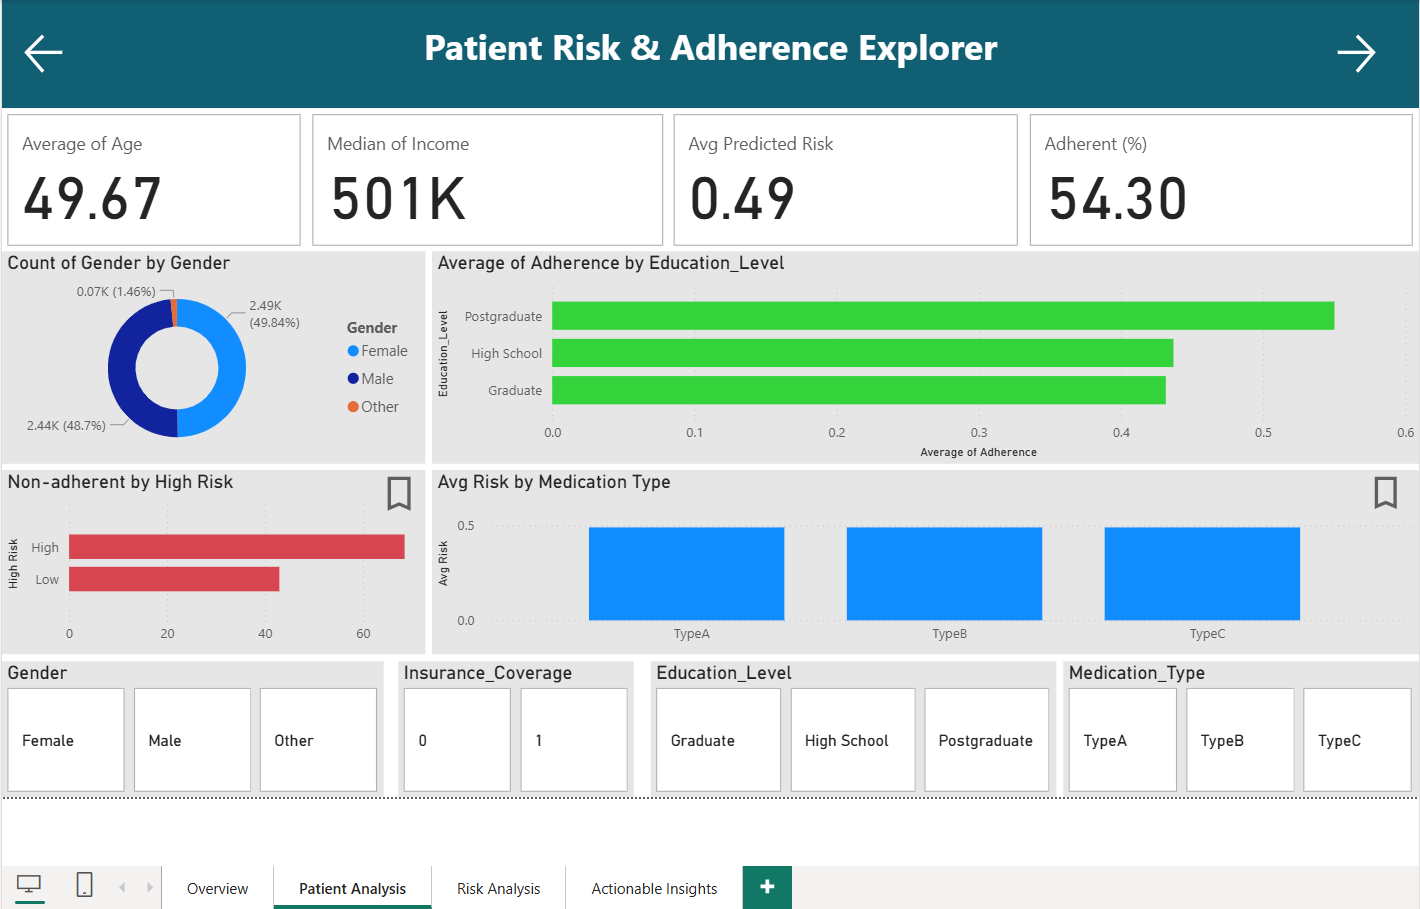

Layout of this report page (visuals, bound fields, positions):
{"tool":"powerbi","page":{"name":"Patient Analysis","canvas":[1280,720],"ordinal":1},"visuals":[{"type":"cardVisual","fields":{"Data":["Avg(patient_adherence.Age)"]},"box":[0,97.9,275.3,129.3],"z":0},{"type":"cardVisual","fields":{"Data":["Median(patient_adherence.Income)"]},"box":[275.3,97.9,327,129.3],"z":1000},{"type":"cardVisual","fields":{"Data":["adherence_predictions.Adherent (%)"]},"box":[923.8,97.9,356.6,129.3],"z":2000},{"type":"cardVisual","fields":{"Data":["adherence_predictions.Avg Predicted Risk"]},"box":[602.3,97.9,321.5,129.3],"z":3000},{"type":"donutChart","fields":{"Category":["patient_adherence.Gender"],"Y":["CountNonNull(patient_adherence.Gender)"]},"box":[0,227.3,382.4,192.1],"z":4000},{"type":"barChart","fields":{"Category":["patient_adherence.Education_Level"],"Y":["Avg(patient_adherence.Adherence)"]},"box":[388,227.3,892.4,192.1],"z":5000},{"type":"clusteredColumnChart","fields":{"Category":["patient_adherence.Medication_Type"],"Y":["adherence_predictions.Avg Risk by Med"]},"box":[388,424.9,892.4,166],"z":6000},{"type":"barChart","fields":{"Category":["adherence_predictions.Is_High_Risk"],"Y":["adherence_predictions.Non-adherent"]},"box":[0,424.9,382.4,166.3],"z":7000},{"type":"advancedSlicerVisual","fields":{"Values":["patient_adherence.Gender"]},"box":[0,596.8,345,123.8],"z":8000},{"type":"advancedSlicerVisual","fields":{"Values":["patient_adherence.Education_Level"]},"box":[585.7,596.8,366,123.8],"z":9000},{"type":"advancedSlicerVisual","fields":{"Values":["patient_adherence.Medication_Type"]},"box":[958.9,596.8,321.5,123.8],"z":10000},{"type":"textbox","box":[0,0,1280.4,97.9],"z":11000},{"type":"advancedSlicerVisual","fields":{"Values":["patient_adherence.Insurance_Coverage"]},"box":[358.4,596.8,212.5,123.8],"z":12000},{"type":"actionButton","box":[339,425.7,43.4,40.2],"z":12001},{"type":"actionButton","box":[1230.5,425.7,49.8,38.6],"z":12002},{"type":"actionButton","box":[16.1,25.7,104.4,45],"z":12003},{"type":"actionButton","box":[1200,25.7,80.3,45],"z":12004}]}

Visuals, with their boxes on the page's 1280x720 design canvas (x1, y1, x2, y2). These are canvas units, not pixel positions in the 1420x909 screenshot, which may show the page scaled, cropped or inside an application window:
cardVisual - Avg(patient_adherence.Age): x1=0 y1=98 x2=275 y2=227
cardVisual - Median(patient_adherence.Income): x1=275 y1=98 x2=602 y2=227
cardVisual - adherence_predictions.Adherent (%): x1=924 y1=98 x2=1280 y2=227
cardVisual - adherence_predictions.Avg Predicted Risk: x1=602 y1=98 x2=924 y2=227
donutChart - patient_adherence.Gender x CountNonNull(patient_adherence.Gender): x1=0 y1=227 x2=382 y2=419
barChart - patient_adherence.Education_Level x Avg(patient_adherence.Adherence): x1=388 y1=227 x2=1280 y2=419
clusteredColumnChart - patient_adherence.Medication_Type x adherence_predictions.Avg Risk by Med: x1=388 y1=425 x2=1280 y2=591
barChart - adherence_predictions.Is_High_Risk x adherence_predictions.Non-adherent: x1=0 y1=425 x2=382 y2=591
advancedSlicerVisual - patient_adherence.Gender: x1=0 y1=597 x2=345 y2=721
advancedSlicerVisual - patient_adherence.Education_Level: x1=586 y1=597 x2=952 y2=721
advancedSlicerVisual - patient_adherence.Medication_Type: x1=959 y1=597 x2=1280 y2=721
textbox: x1=0 y1=0 x2=1280 y2=98
advancedSlicerVisual - patient_adherence.Insurance_Coverage: x1=358 y1=597 x2=571 y2=721
actionButton: x1=339 y1=426 x2=382 y2=466
actionButton: x1=1230 y1=426 x2=1280 y2=464
actionButton: x1=16 y1=26 x2=120 y2=71
actionButton: x1=1200 y1=26 x2=1280 y2=71
